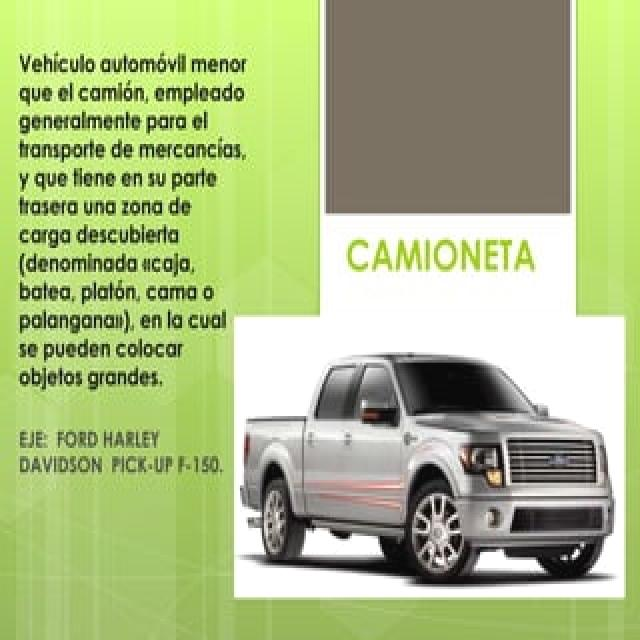CMT: (240, 352, 615, 584)
